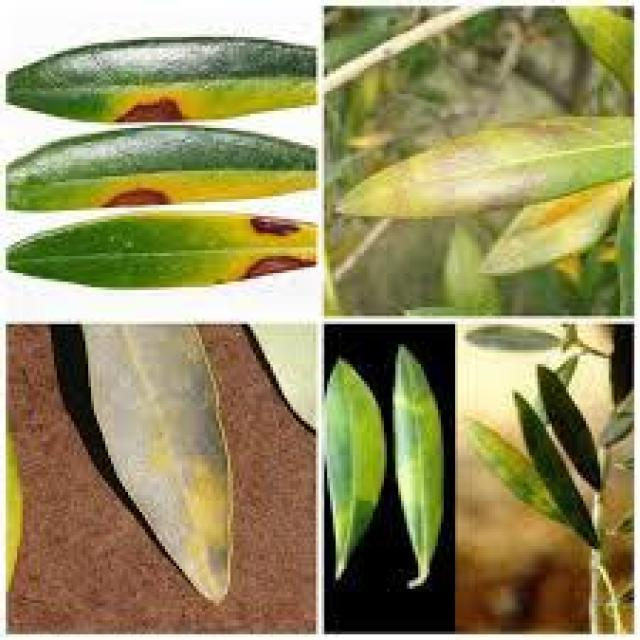Peacock Eye: (82, 324, 230, 597), (336, 116, 631, 219), (9, 37, 313, 119), (6, 128, 313, 208), (9, 213, 313, 289), (324, 358, 384, 577), (395, 347, 441, 586)
